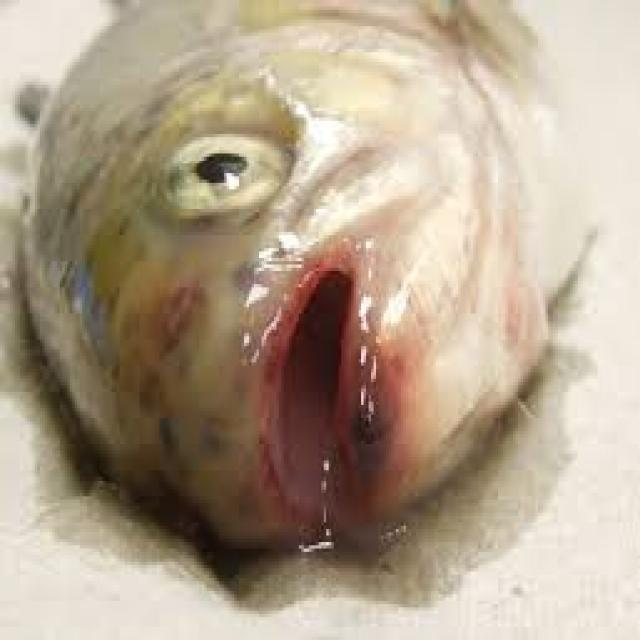EUS Disease: (2, 19, 596, 564)
